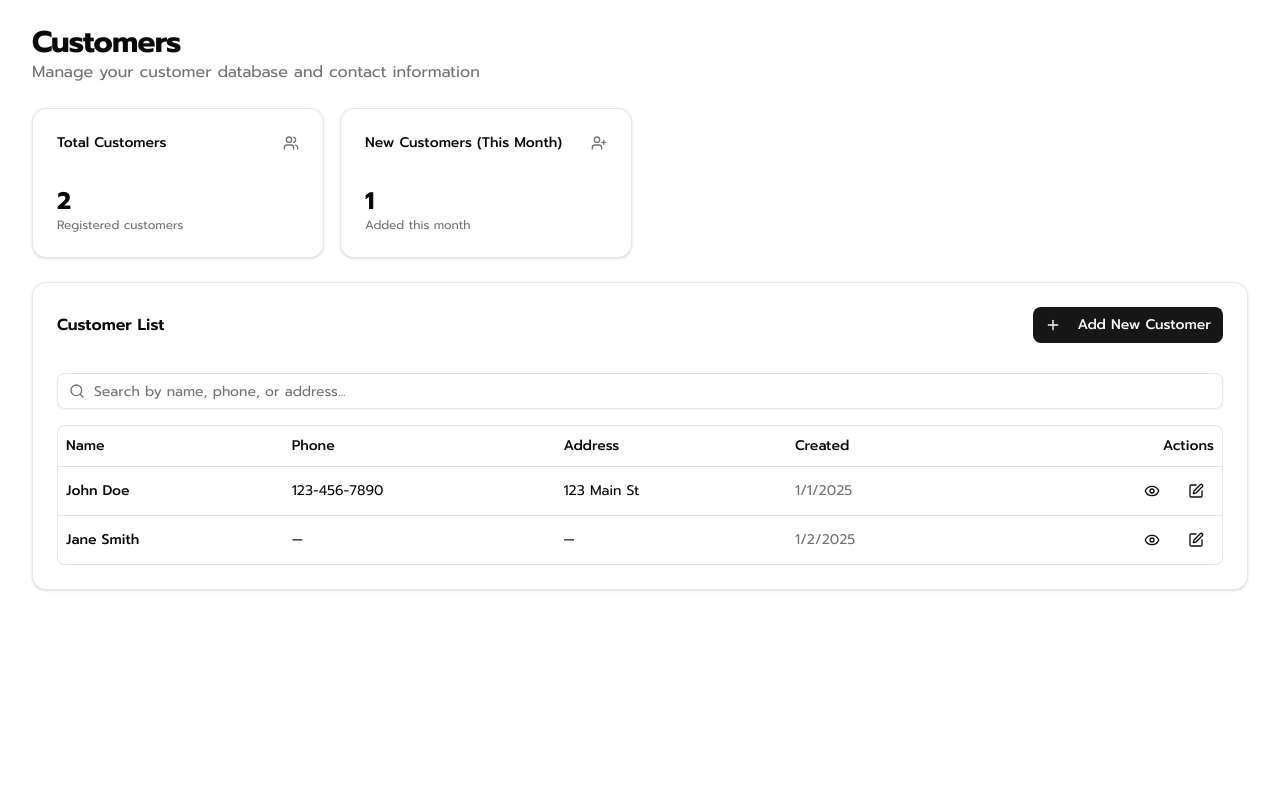
Scenario: CustomersPage › Edit Customer Functionality › Edit Dialog Opening › opens edit dialog when edit button is clicked
Click the button named "edit customer" in the row of "John Doe" at (1196, 490), box 1178,474 -> 1214,506
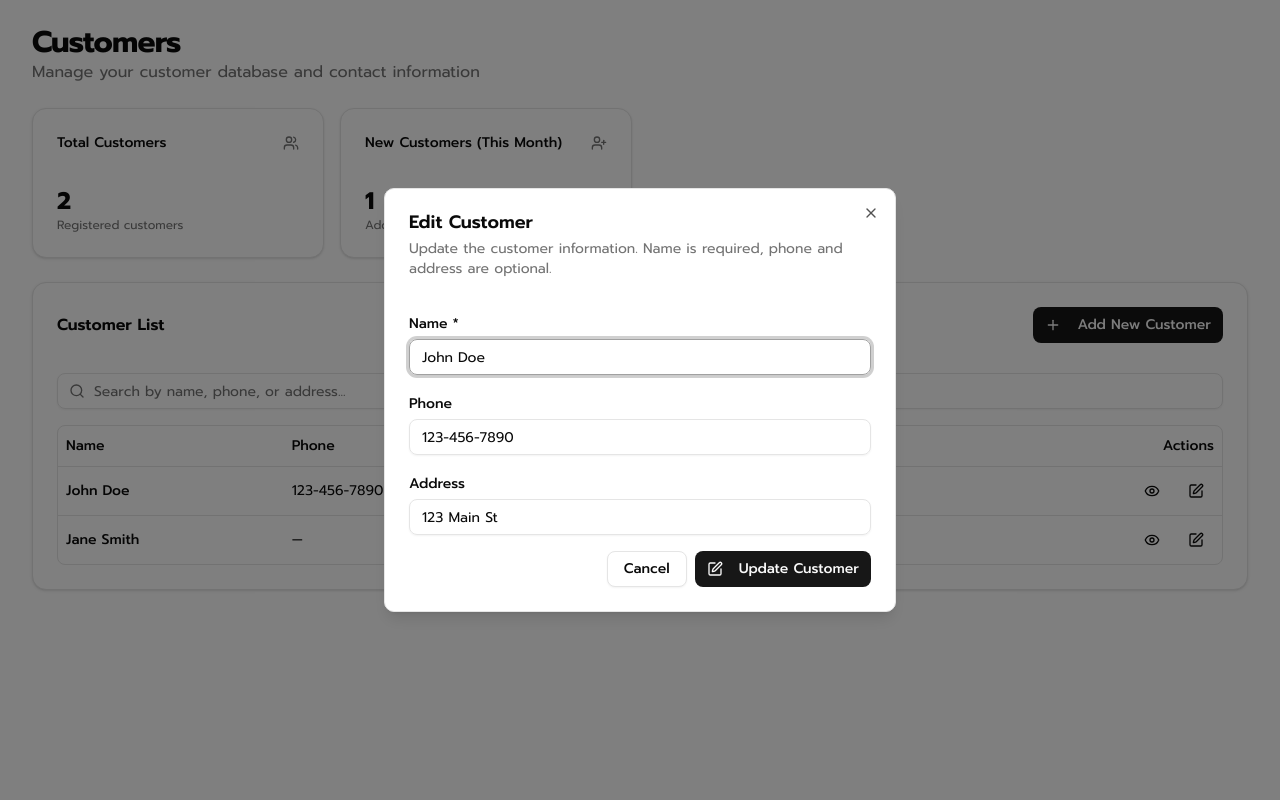
expect the dialog is shown: met, box 384,188 -> 896,612
expect the heading "Edit Customer" is shown: met, box 409,208 -> 533,236
expect the text "Update the customer information. Name is required, phone and address are optional." is shown: met, box 409,238 -> 843,279
